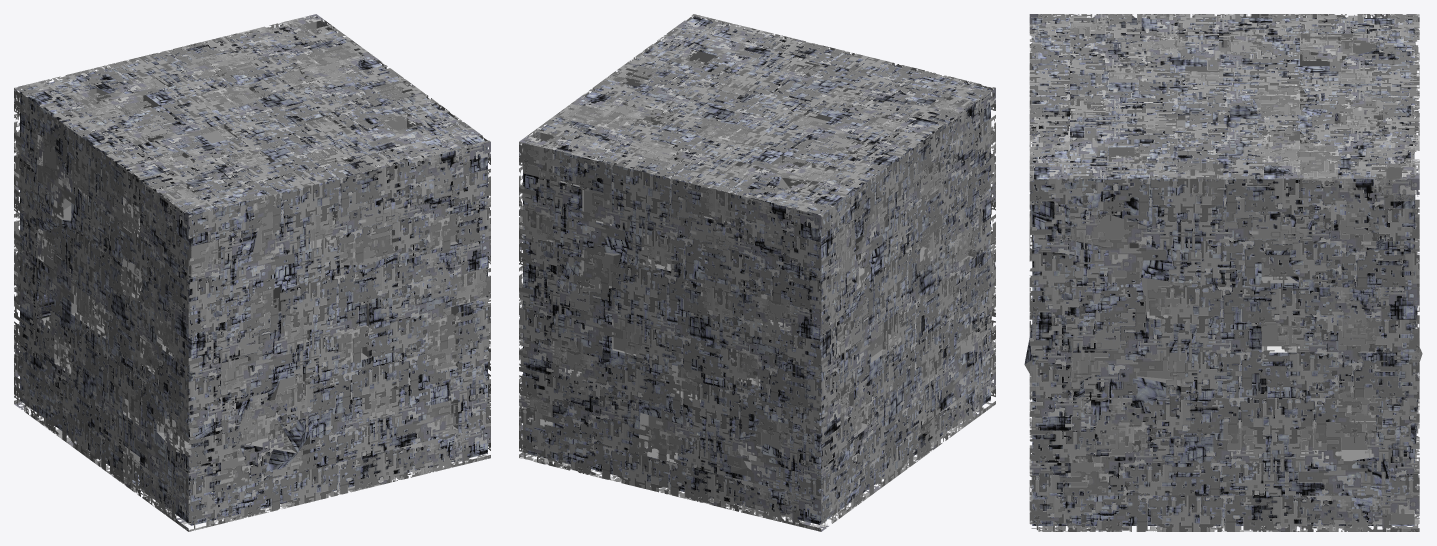
File: Hqiixbg1.FBX
3 views of the same model, side by side, from view 1: azimuth 30°, elevation 25°; view 2: azimuth 150°, elevation 25°; view 3: azimuth 270°, elevation 25° (orthographic). The views are drawn at different scales.
Parts seen in each view (by area): view 1: Box002, Box001; view 2: Box002, Box001; view 3: Box002, Box001.
Part boxes in pixels (x1,y1,x2,y2): Box002: (14,14,490,531); Box001: (20,17,487,525); Box002: (519,14,995,531); Box001: (523,17,990,524); Box002: (1029,14,1419,531); Box001: (1024,18,1422,525).
Size of the model in its own units: 102 by 102 by 104.
14 materials, 8 textured.
